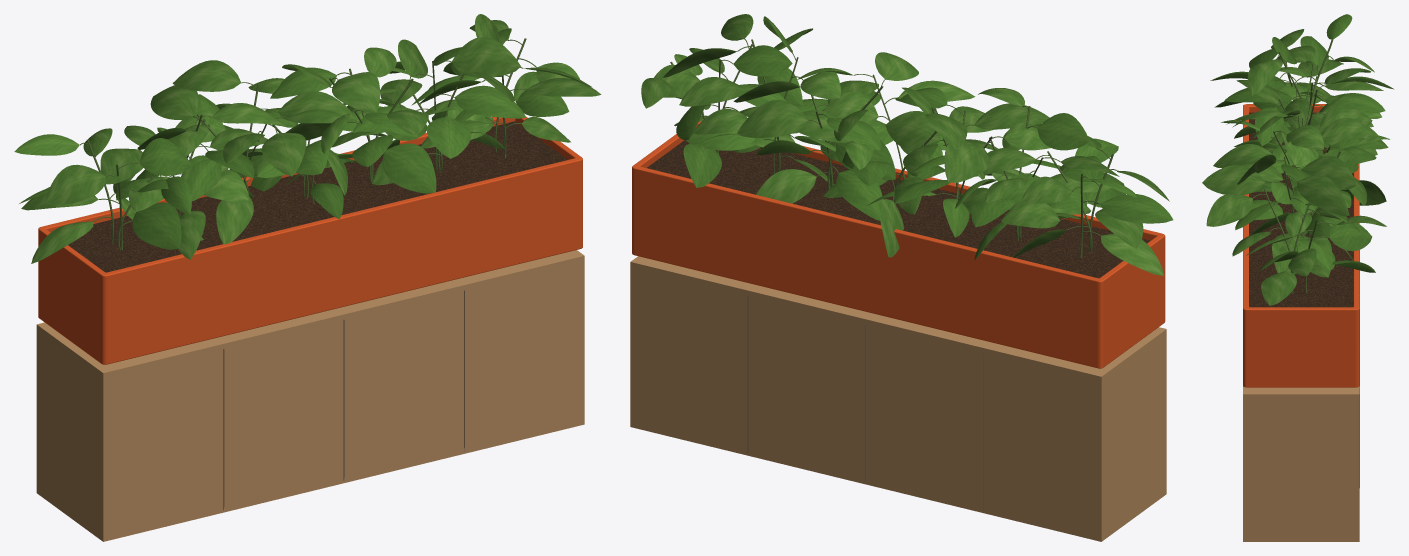
Rendered from botanicalDivider-7.glb.
The picture shows the model from 3 angles, left to right: view 1: azimuth 30°, elevation 25°; view 2: azimuth 150°, elevation 25°; view 3: azimuth 270°, elevation 25°; orthographic projection. The views are drawn at different scales.
Visible parts, largest first — view 1: StoragePlanter_Door (×4), Planter_pothos_leaves, Planter_oiled_oak, Planter_loose_soil, StoragePlanter_Side (×2), StoragePlanter_Top, Planter_matte_accent, StoragePlanter_Bottom, Planter_pothos_stems; view 2: StoragePlanter_Back, Planter_pothos_leaves, Planter_oiled_oak, Planter_loose_soil, StoragePlanter_Side (×2), StoragePlanter_Top, Planter_matte_accent, StoragePlanter_Bottom, Planter_pothos_stems; view 3: Planter_pothos_leaves, StoragePlanter_Side, Planter_oiled_oak, Planter_loose_soil, Planter_pothos_stems, StoragePlanter_Top, StoragePlanter_Bottom.
Part boxes in pixels (box(x1,y1,x2,y2)): StoragePlanter_Door (×4): box(103, 262, 583, 536); Planter_pothos_leaves: box(14, 14, 601, 263); Planter_oiled_oak: box(38, 116, 582, 364); Planter_loose_soil: box(68, 121, 567, 272); StoragePlanter_Side (×2): box(36, 261, 584, 536); StoragePlanter_Top: box(36, 250, 584, 378); Planter_matte_accent: box(111, 221, 572, 346); StoragePlanter_Bottom: box(36, 419, 584, 541); Planter_pothos_stems: box(80, 38, 536, 250); StoragePlanter_Back: box(635, 268, 1096, 534); Planter_pothos_leaves: box(641, 14, 1173, 275); Planter_oiled_oak: box(632, 121, 1165, 368); Planter_loose_soil: box(647, 140, 1150, 278); StoragePlanter_Side (×2): box(630, 267, 1166, 536); StoragePlanter_Top: box(630, 256, 1166, 382); Planter_matte_accent: box(638, 226, 1093, 350); StoragePlanter_Bottom: box(630, 421, 1166, 541); Planter_pothos_stems: box(670, 38, 1116, 257); Planter_pothos_leaves: box(1202, 14, 1393, 305); StoragePlanter_Side: box(1243, 399, 1359, 536); Planter_oiled_oak: box(1243, 104, 1359, 387); Planter_loose_soil: box(1249, 112, 1353, 307); Planter_pothos_stems: box(1253, 39, 1341, 293); StoragePlanter_Top: box(1243, 386, 1359, 398); StoragePlanter_Bottom: box(1243, 537, 1359, 541).
Bounding box in the file's own units: 2.26 × 1.58 × 0.7924.
9 materials, 2 textured.
